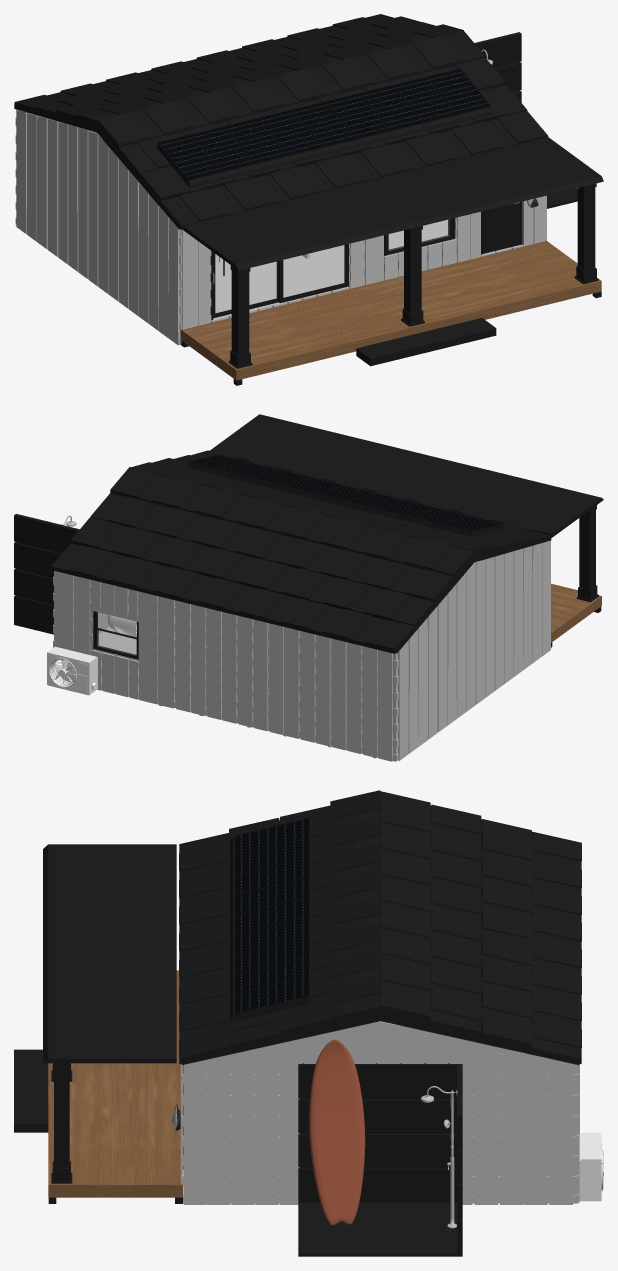
File: 660Sqft.glb
The picture shows the model from 3 angles, top to bottom: view 1: azimuth 30°, elevation 25°; view 2: azimuth 150°, elevation 25°; view 3: azimuth 270°, elevation 25°; orthographic projection. The views are drawn at different scales.
Parts seen in each view (by area): view 1: Asphalt_Roof, Vertical_Wall_Pattern, Wooden_Base, Frontal_Roof, Pillars, House_Base, Wooden_Step, Solar_Holder, Glass01, Shower_BAse, Glass02, Side_Room_Door (+18 smaller); view 2: Vertical_Wall_Pattern, Asphalt_Roof, Frontal_Roof, Shower_BAse, polySurface7084, Horizontal_Wall_Pattern, Outer_Wall, Wooden_Base, Pillars, Ac_Outer_Shield, polySurface7074, Metal_Roof_Base (+12 smaller); view 3: Asphalt_Roof, Vertical_Wall_Pattern, Frontal_Roof, Shower_BAse, Wooden_Base, Board, Wooden_Step, Horizontal_Wall_Pattern, Outer_Wall, polySurface7084, Pillars, Metal_Roof_Base (+13 smaller).
Boxes of the visible parts, <box> form: Asphalt_Roof: <box>14,14,547,229</box>; Vertical_Wall_Pattern: <box>16,110,546,345</box>; Wooden_Base: <box>180,240,601,380</box>; Frontal_Roof: <box>183,137,603,270</box>; Pillars: <box>228,183,598,368</box>; House_Base: <box>215,219,447,313</box>; Wooden_Step: <box>356,318,496,366</box>; Solar_Holder: <box>188,107,493,187</box>; Glass01: <box>283,245,344,297</box>; Shower_BAse: <box>474,32,577,208</box>; Glass02: <box>215,254,276,312</box>; Side_Room_Door: <box>483,202,520,253</box>; Vertical_Wall_Pattern: <box>55,540,550,761</box>; Asphalt_Roof: <box>51,450,551,653</box>; Frontal_Roof: <box>210,414,603,537</box>; Shower_BAse: <box>14,514,79,634</box>; polySurface7084: <box>188,455,501,537</box>; Horizontal_Wall_Pattern: <box>53,577,398,761</box>; Outer_Wall: <box>54,571,397,761</box>; Wooden_Base: <box>551,583,601,642</box>; Pillars: <box>576,505,598,602</box>; Ac_Outer_Shield: <box>47,653,97,695</box>; polySurface7074: <box>97,612,136,655</box>; Metal_Roof_Base: <box>51,537,551,653</box>; Asphalt_Roof: <box>179,790,581,1063</box>; Vertical_Wall_Pattern: <box>180,1021,579,1204</box>; Frontal_Roof: <box>43,844,176,1063</box>; Shower_BAse: <box>298,1063,462,1256</box>; Wooden_Base: <box>48,970,182,1197</box>; Board: <box>309,1039,365,1225</box>; Wooden_Step: <box>14,1049,48,1132</box>; Horizontal_Wall_Pattern: <box>181,1022,578,1203</box>; Outer_Wall: <box>183,1027,577,1203</box>; polySurface7084: <box>234,818,310,1021</box>; Pillars: <box>51,1063,72,1183</box>; Metal_Roof_Base: <box>181,1017,579,1064</box>.
Size of the model in its own units: 0.1228 by 0.0428 by 0.114.
Materials: 14 (3 with a texture image).
